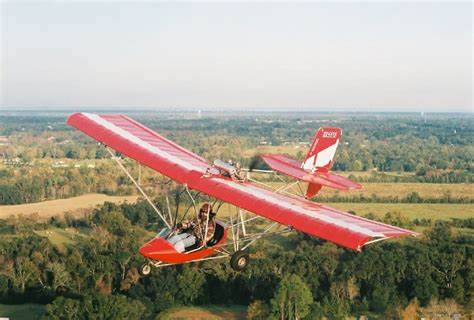Aeronef_de_loisir: (65, 103, 430, 280)
